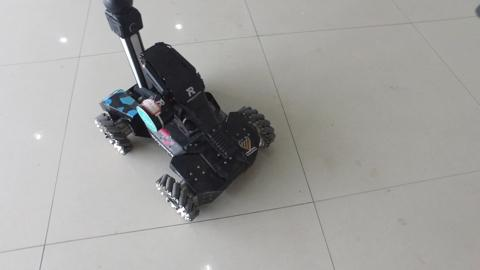chariot: (78, 7, 268, 217)
